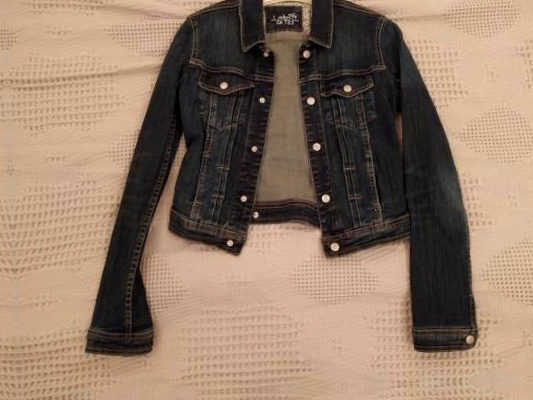Blazer: (60, 0, 485, 389), (77, 391, 501, 400)
